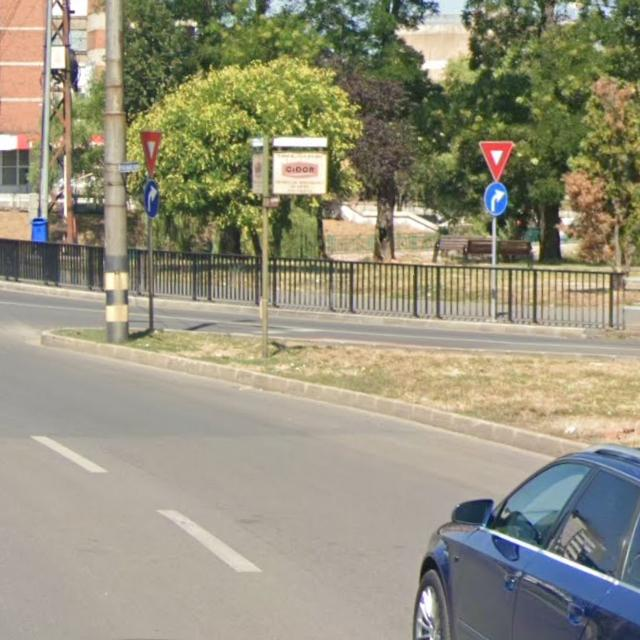mand_right: (483, 182, 509, 218), (144, 180, 160, 218)
prio_give_way: (479, 140, 516, 182), (140, 130, 164, 179)
